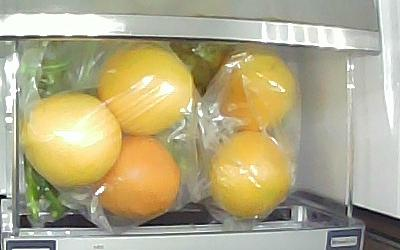grapefruit_vinyl: (21, 91, 122, 186), (95, 41, 193, 136), (208, 128, 290, 217), (94, 136, 182, 218), (217, 52, 297, 129)
